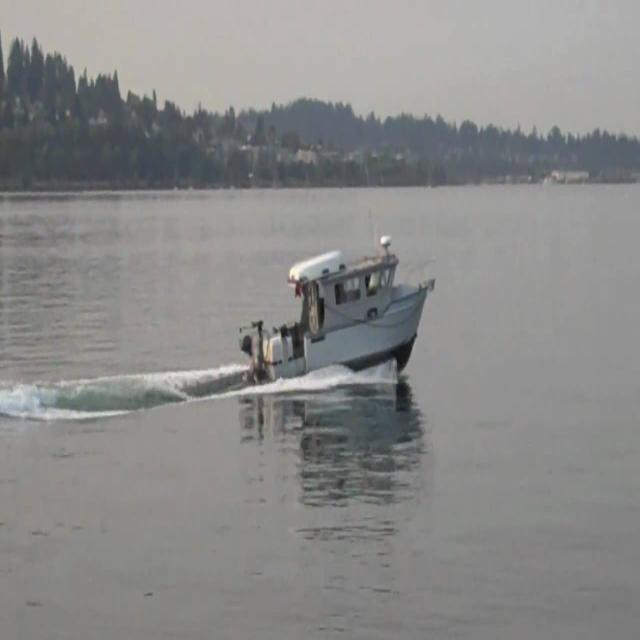houseboat: (241, 229, 433, 385)
